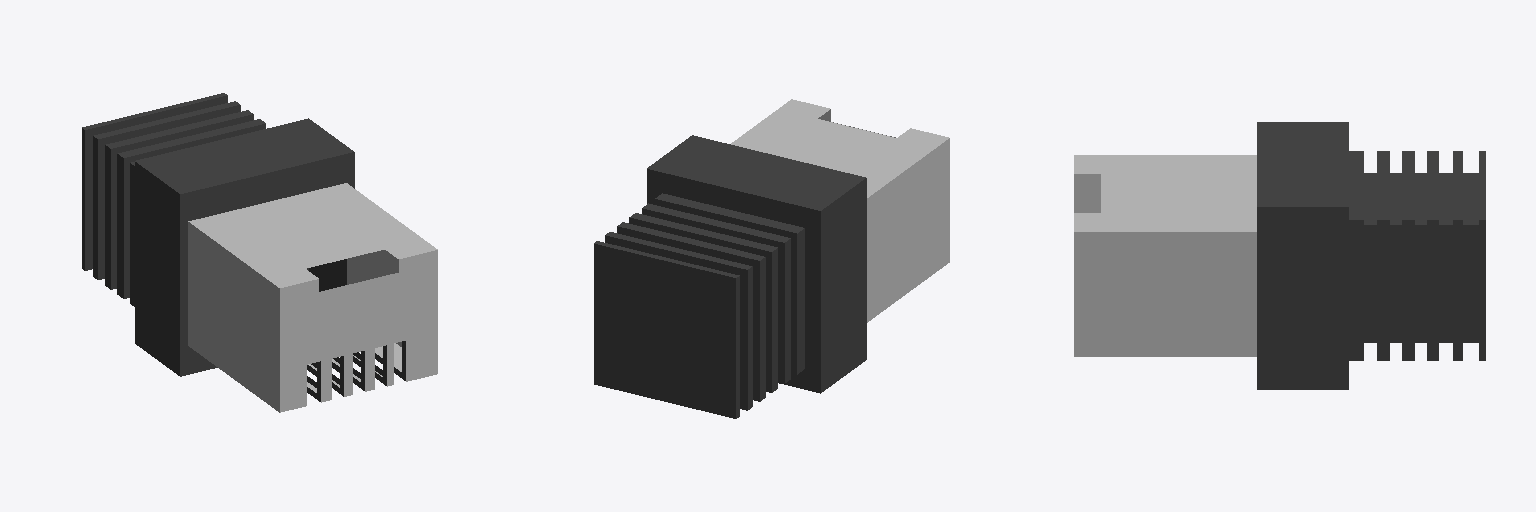
The model's file is EnsamblajeCableRJ45.obj.
3 renders of one model, left to right at view 1: azimuth 30°, elevation 25°; view 2: azimuth 150°, elevation 25°; view 3: azimuth 270°, elevation 25°, orthographic.
Parts seen in each view (by area): view 1: mesh 1 RJ45-1, mesh 2 Cortar-Extruir5 face; view 2: mesh 2 Cortar-Extruir5 face, mesh 1 RJ45-1; view 3: mesh 2 Cortar-Extruir5 face, mesh 1 RJ45-1.
Boxes of the visible parts, <box> form: mesh 1 RJ45-1: <box>188,183,437,412</box>; mesh 2 Cortar-Extruir5 face: <box>82,93,405,401</box>; mesh 2 Cortar-Extruir5 face: <box>594,135,866,418</box>; mesh 1 RJ45-1: <box>731,99,949,322</box>; mesh 2 Cortar-Extruir5 face: <box>1257,122,1485,389</box>; mesh 1 RJ45-1: <box>1074,155,1256,356</box>.
Bounding box in the file's own units: 0.0022 × 0.0022 × 0.0045.